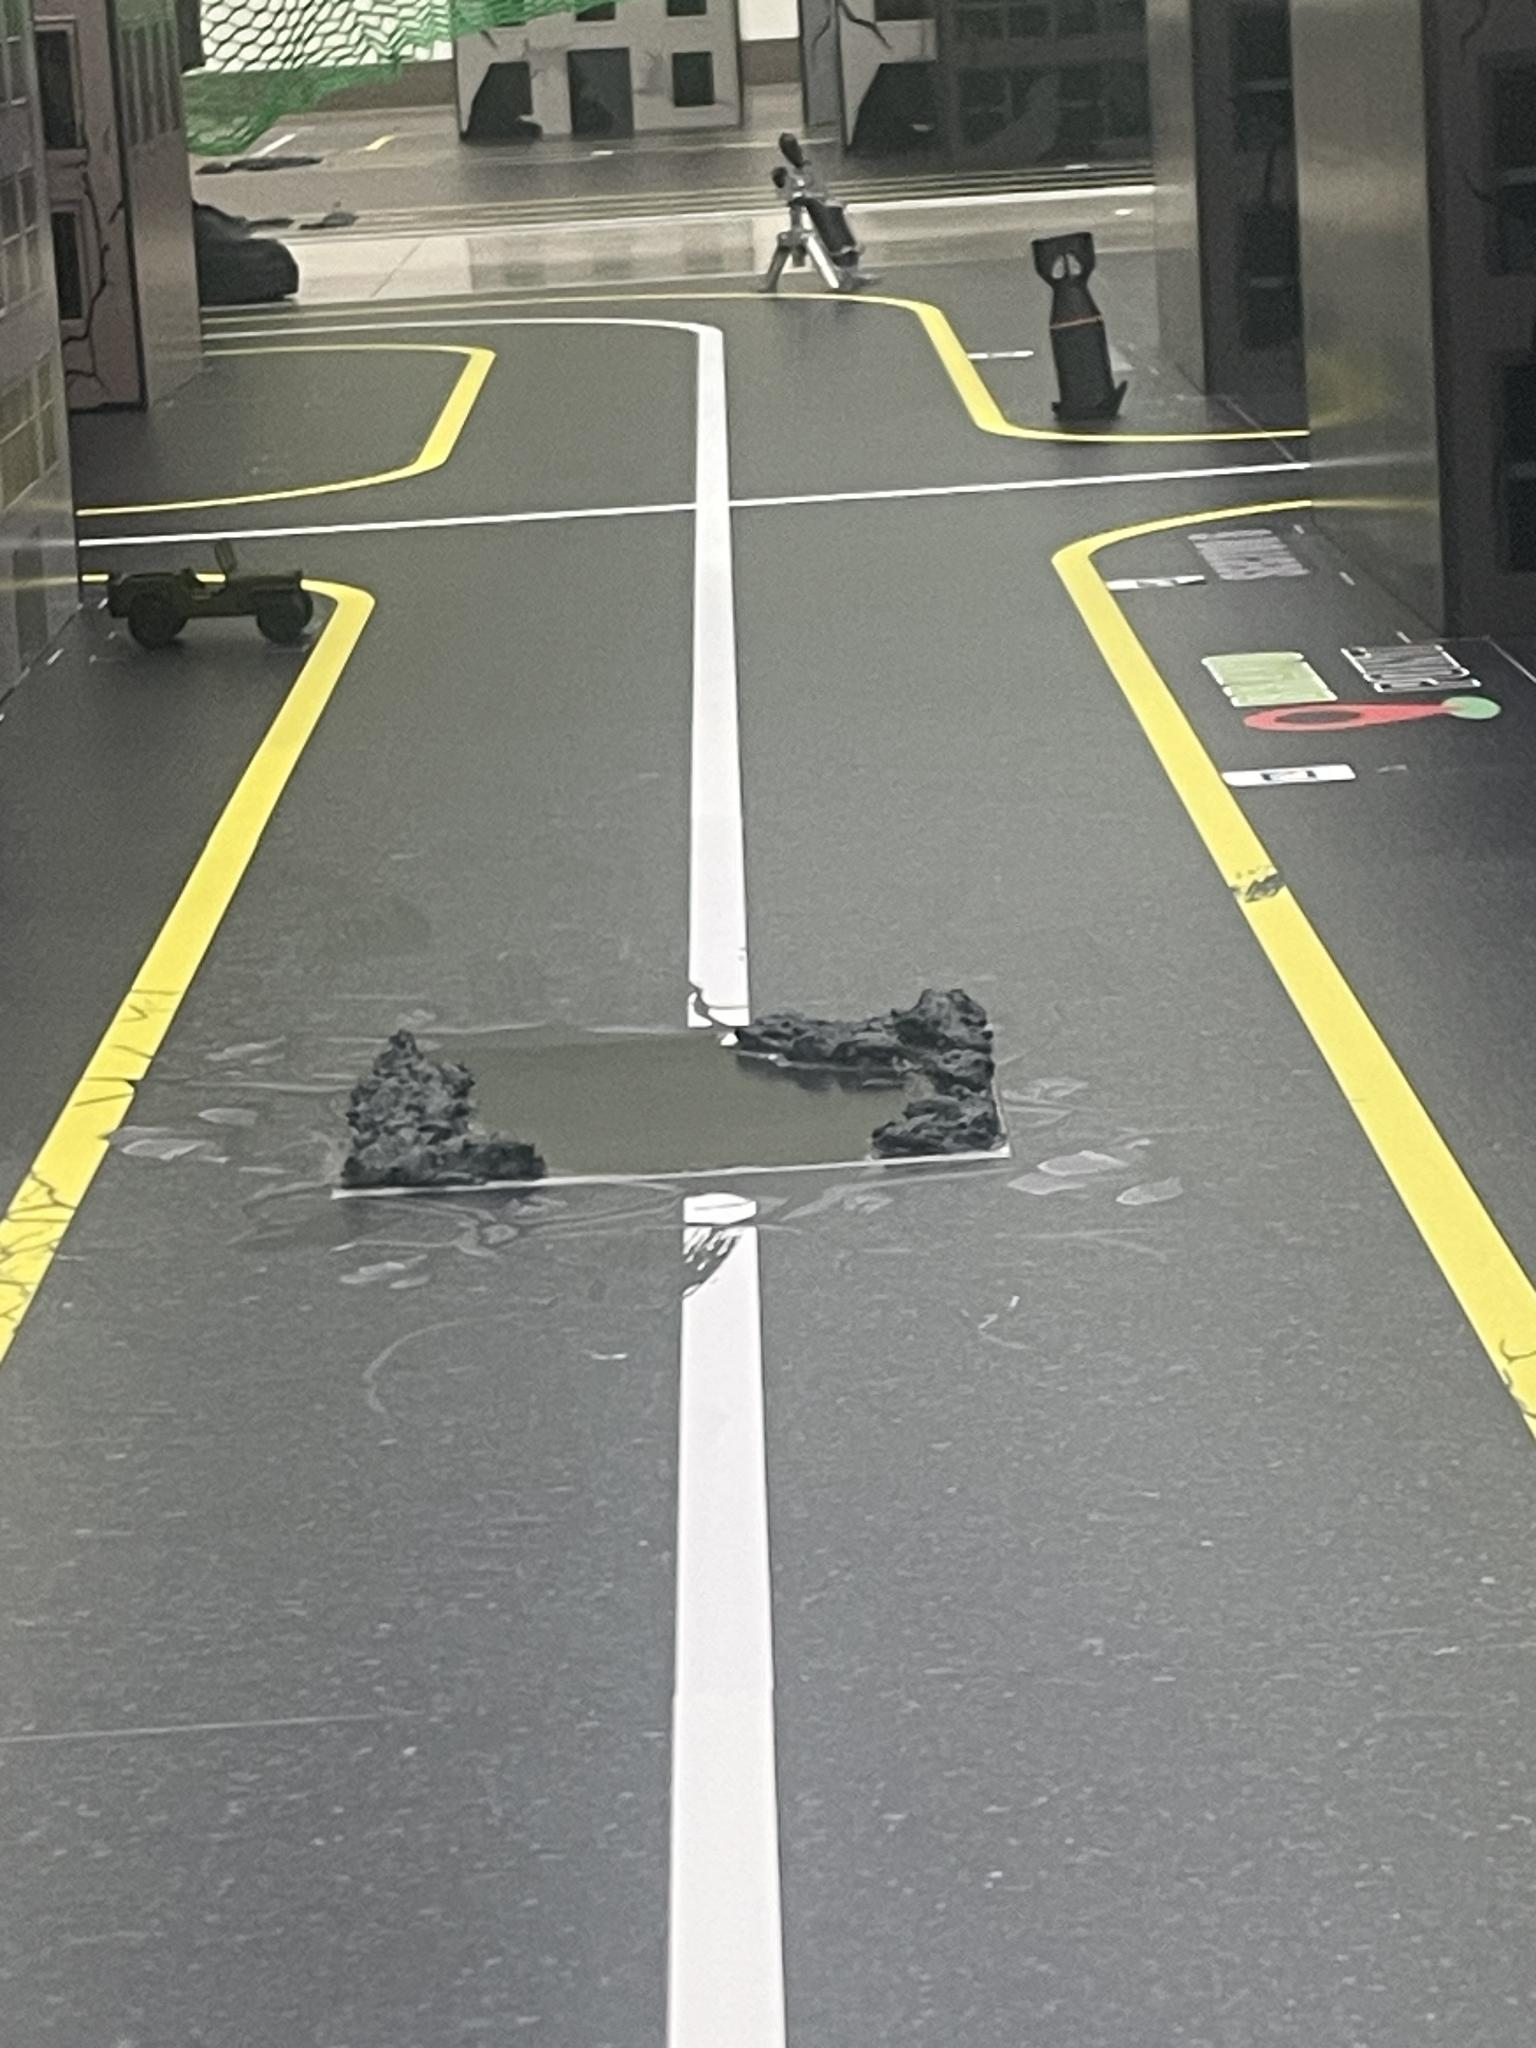Car: (105, 535, 332, 655)
Missile: (1034, 224, 1136, 432)
Mortar: (747, 129, 886, 302)
